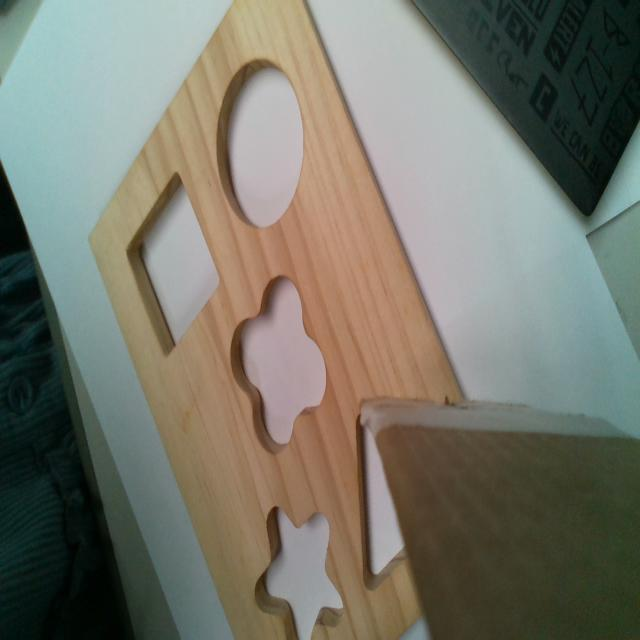circle: (219, 61, 305, 226)
flower: (230, 277, 327, 454)
square: (125, 168, 222, 360)
star: (254, 507, 341, 636)
triangle: (356, 413, 407, 594)
